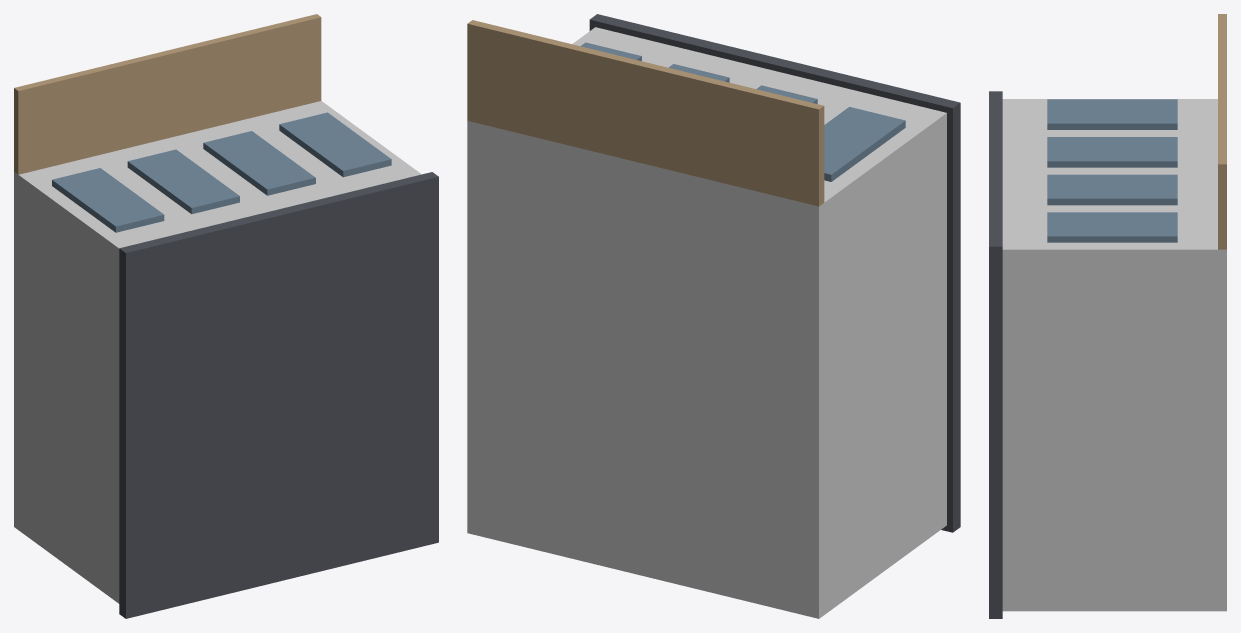
File: house_plus_second_floor.glb
3 renders of one model, left to right at view 1: azimuth 30°, elevation 25°; view 2: azimuth 150°, elevation 25°; view 3: azimuth 270°, elevation 25°, orthographic. The views are drawn at different scales.
Visible parts, largest first — view 1: roof_fascia, second_floor, bay_terrace, win_bay_2, win_bay_1, win_bay_0, win_bay_3; view 2: second_floor, bay_terrace, roof_fascia, win_bay_0; view 3: second_floor, roof_fascia, win_bay_2, win_bay_0, win_bay_1, win_bay_3, bay_terrace.
Boxes of the visible parts, bbox=[...] form: roof_fascia: bbox=[119, 172, 438, 618]; second_floor: bbox=[14, 101, 421, 603]; bay_terrace: bbox=[14, 14, 321, 174]; win_bay_2: bbox=[203, 131, 315, 195]; win_bay_1: bbox=[127, 149, 239, 214]; win_bay_0: bbox=[52, 168, 164, 232]; win_bay_3: bbox=[279, 112, 391, 177]; second_floor: bbox=[467, 27, 946, 618]; bay_terrace: bbox=[467, 20, 824, 206]; roof_fascia: bbox=[589, 14, 960, 532]; win_bay_0: bbox=[824, 107, 905, 181]; second_floor: bbox=[1002, 99, 1226, 611]; roof_fascia: bbox=[989, 91, 1002, 618]; win_bay_2: bbox=[1047, 174, 1177, 205]; win_bay_0: bbox=[1047, 99, 1177, 129]; win_bay_1: bbox=[1047, 137, 1177, 167]; win_bay_3: bbox=[1047, 212, 1177, 242]; bay_terrace: bbox=[1218, 14, 1226, 249].
Bounding box in the file's own units: 0.3481 × 0.4732 × 0.2252.
